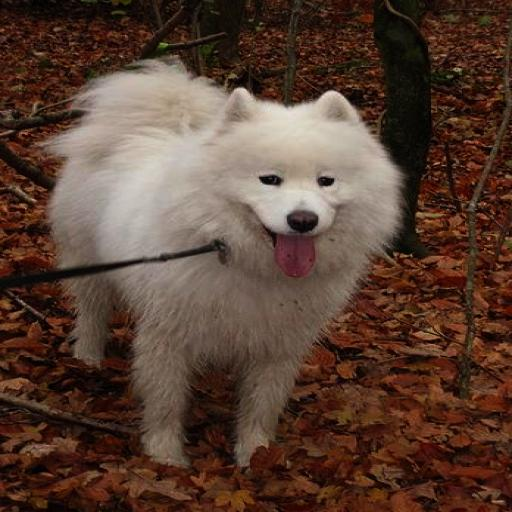dog_face: (208, 91, 370, 272)
